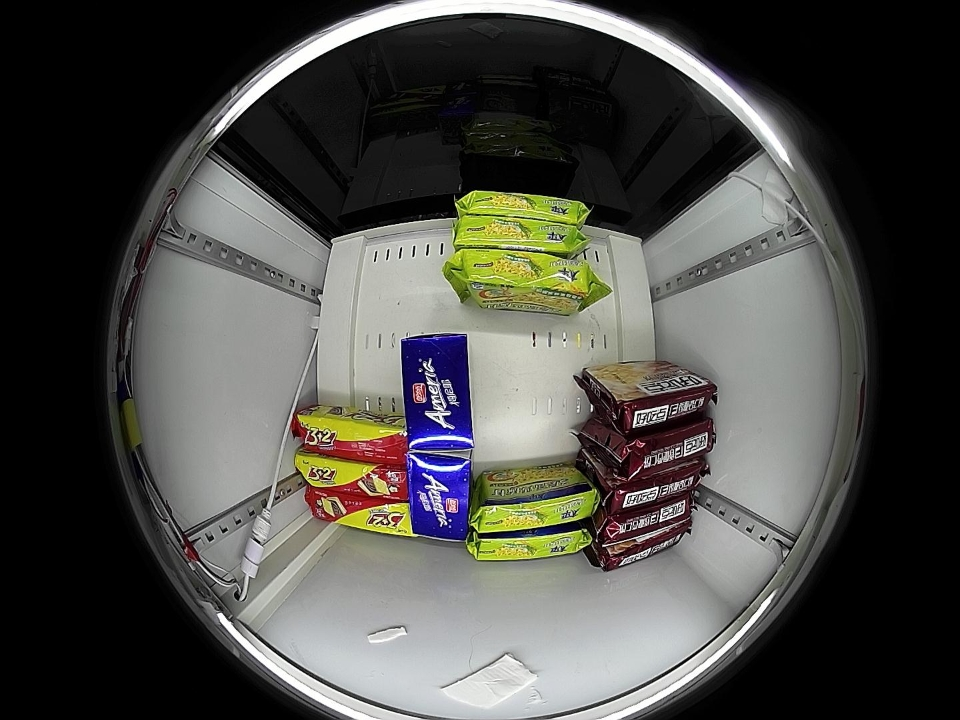3jia2: (296, 410, 404, 460), (295, 454, 404, 498), (310, 494, 413, 534)
anmuxi: (407, 451, 472, 540)
haochidian: (611, 420, 718, 476), (614, 373, 719, 430), (602, 463, 708, 513), (593, 500, 695, 547), (597, 526, 692, 571)
meiniye: (400, 332, 474, 456)
taipingshuda: (453, 250, 590, 303), (474, 480, 598, 533), (455, 189, 591, 225), (467, 525, 592, 562), (455, 218, 584, 253)
